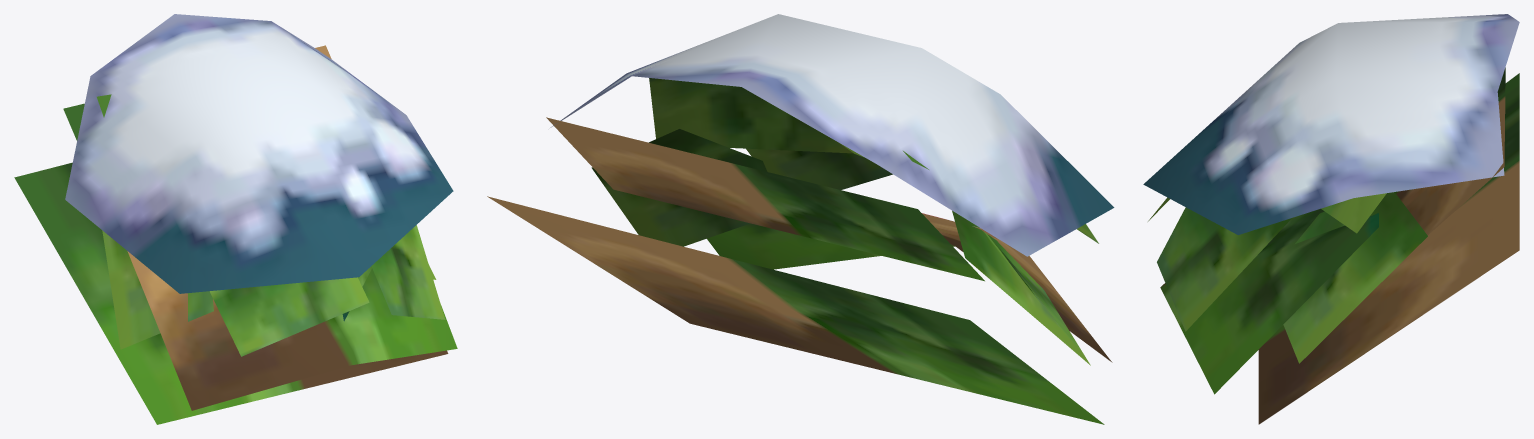
The model's file is fg_bushB_2_s.dae.
The picture shows the model from 3 angles, left to right: view 1: azimuth 30°, elevation 25°; view 2: azimuth 150°, elevation 25°; view 3: azimuth 270°, elevation 25°; orthographic projection. The views are drawn at different scales.
Visible parts, largest first — view 1: fg_bushB_2_s; view 2: fg_bushB_2_s; view 3: fg_bushB_2_s.
Part boxes in pixels (x1,y1,x2,y2): fg_bushB_2_s: [14, 14, 457, 424]; fg_bushB_2_s: [487, 14, 1114, 424]; fg_bushB_2_s: [1143, 14, 1519, 424].
Bounding box in the file's own units: 43.24 × 35.41 × 37.79.
1 material, 1 textured.
